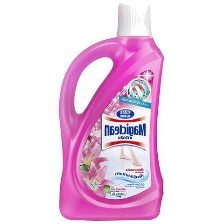cleaning_solution: (56, 1, 165, 222)
